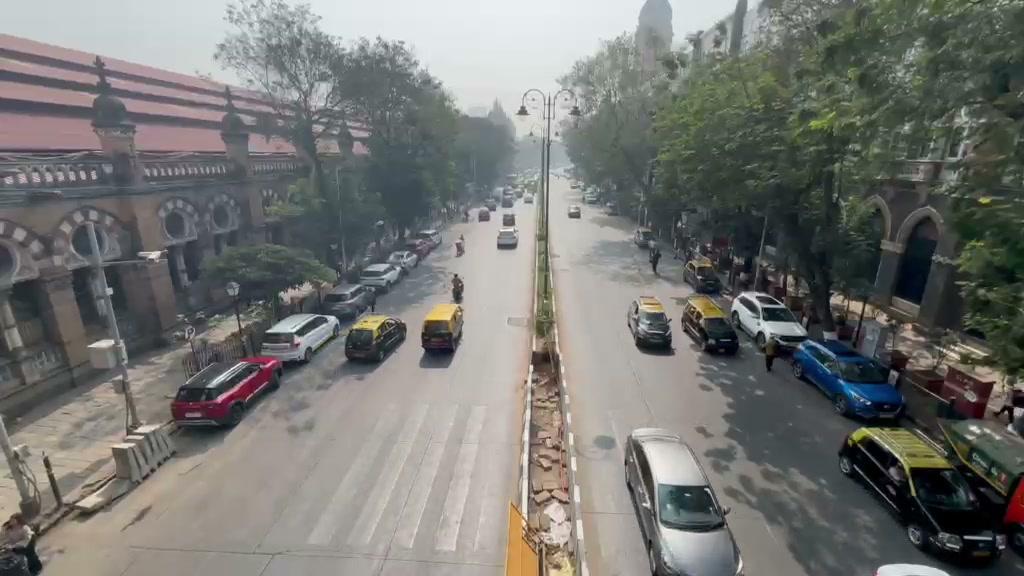car: (836, 423, 1008, 566), (624, 426, 741, 575), (790, 338, 906, 423), (170, 354, 283, 427), (938, 416, 1024, 503), (729, 291, 809, 351), (260, 312, 340, 366), (681, 295, 740, 355), (344, 312, 407, 362), (626, 295, 673, 351), (318, 281, 379, 319), (420, 303, 464, 350), (1003, 472, 1024, 554), (683, 259, 724, 295), (359, 263, 402, 291), (407, 232, 438, 256), (387, 250, 419, 270), (497, 228, 518, 250), (566, 204, 582, 219)
pedestrian: (1, 512, 42, 574), (450, 273, 464, 304)
